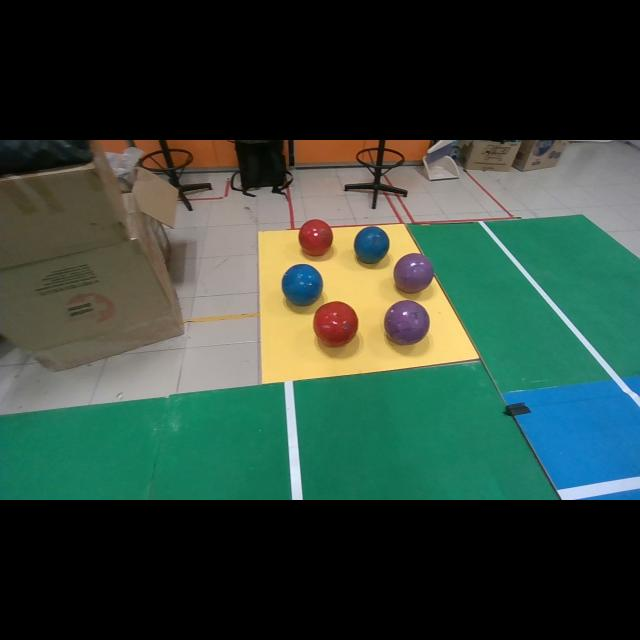B: (281, 264, 322, 306), (354, 226, 390, 264)
P: (384, 300, 430, 345), (394, 254, 434, 293)
R: (314, 301, 359, 348), (299, 219, 332, 256)
